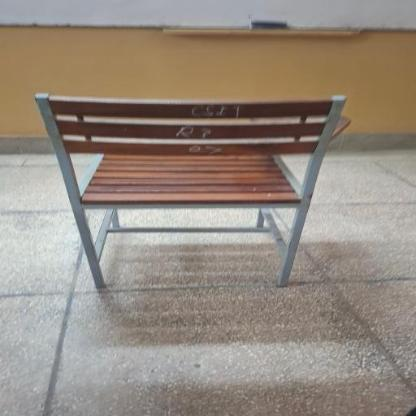chair: (28, 82, 359, 295)
